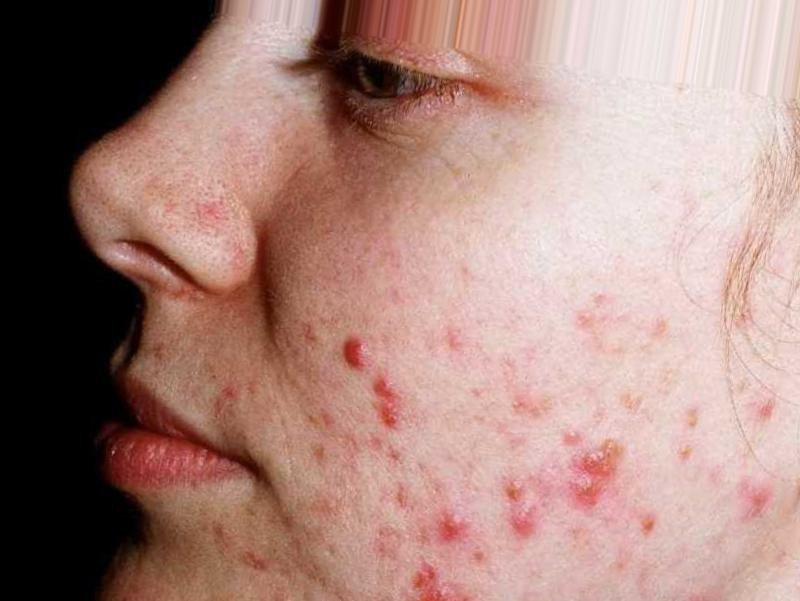Acne: (567, 423, 633, 515), (492, 468, 555, 550), (403, 553, 472, 601), (330, 320, 370, 375), (430, 507, 478, 547)
